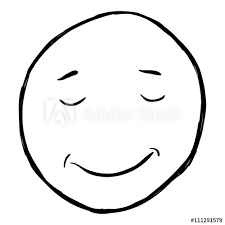feliz: (35, 57, 178, 176), (53, 93, 171, 177)
